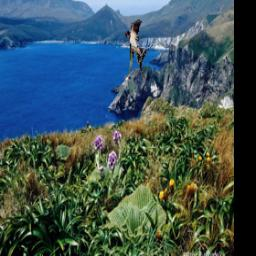Swallow: (125, 21, 155, 79)
